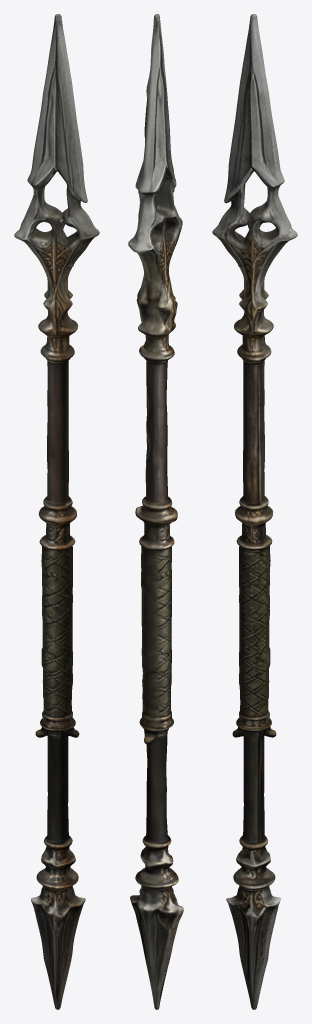
Rendered from iron_spear.glb.
3 renders of one model, left to right at view 1: azimuth 90°, elevation 25°; view 2: azimuth 150°, elevation 25°; view 3: azimuth 270°, elevation 25°, orthographic.
Parts seen in each view (by area): view 1: iron_spear; view 2: iron_spear; view 3: iron_spear.
Part boxes in pixels (<box>): iron_spear: <box>14,14,99,1009</box>; iron_spear: <box>128,14,183,1009</box>; iron_spear: <box>212,14,297,1009</box>.
Size of the model in its own units: 0.1282 by 2.3 by 0.1784.
Materials: 1 (1 with a texture image).
